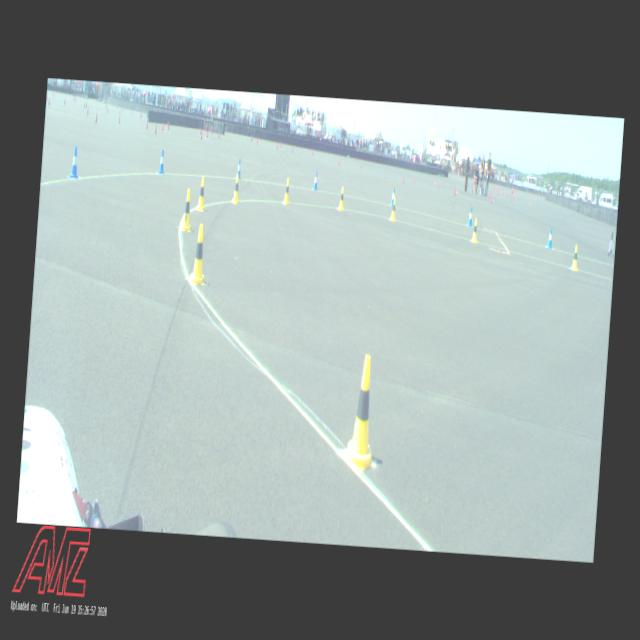blue_cone: (69, 146, 80, 178), (158, 149, 165, 173), (312, 171, 318, 190), (236, 160, 242, 178), (548, 228, 552, 248), (390, 188, 394, 205), (468, 208, 472, 225)
unknown_cone: (94, 112, 98, 122), (154, 124, 157, 134), (200, 130, 202, 140)
yellow_cone: (341, 354, 382, 472), (190, 223, 208, 284), (181, 188, 193, 231), (196, 176, 206, 210), (231, 174, 240, 204), (282, 178, 290, 205), (570, 244, 578, 270), (470, 218, 478, 242), (389, 198, 396, 220), (338, 186, 344, 210)
